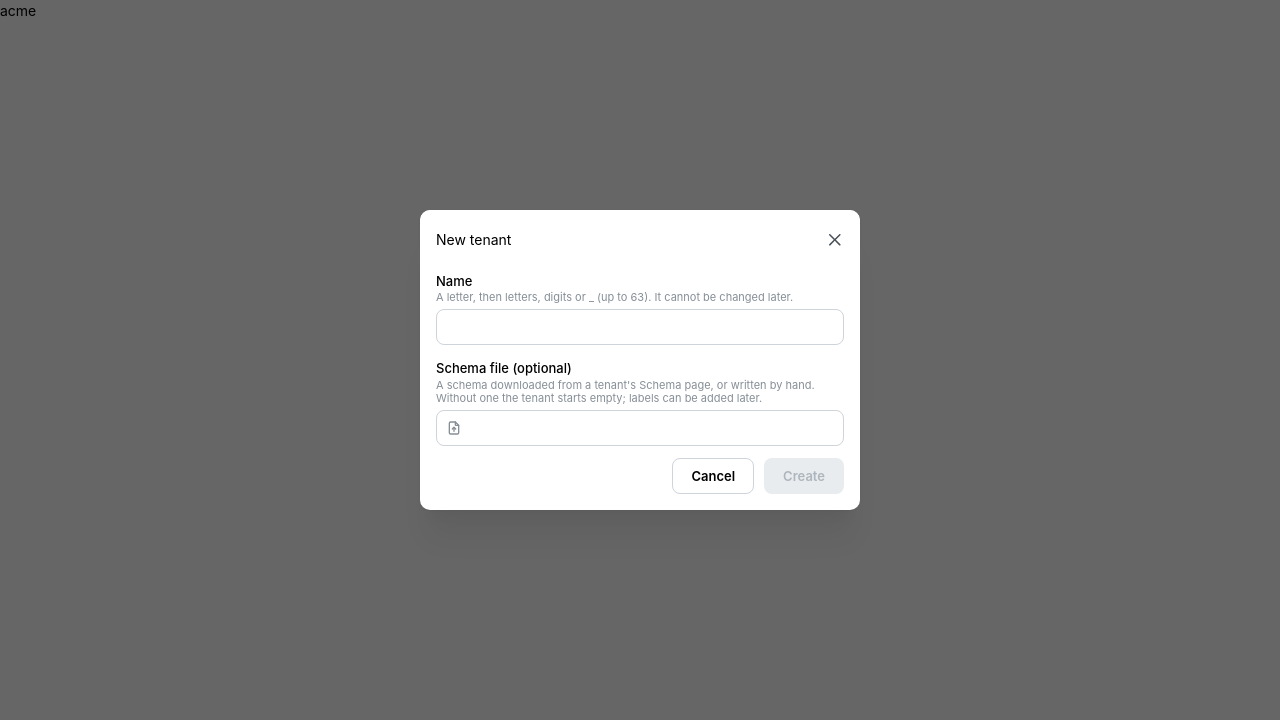
Test: a new tenant › checks the name against what the user may create, creates it and opens it
In the field labelled "Name": (640, 327) [436,309,844,345], type "other_x"
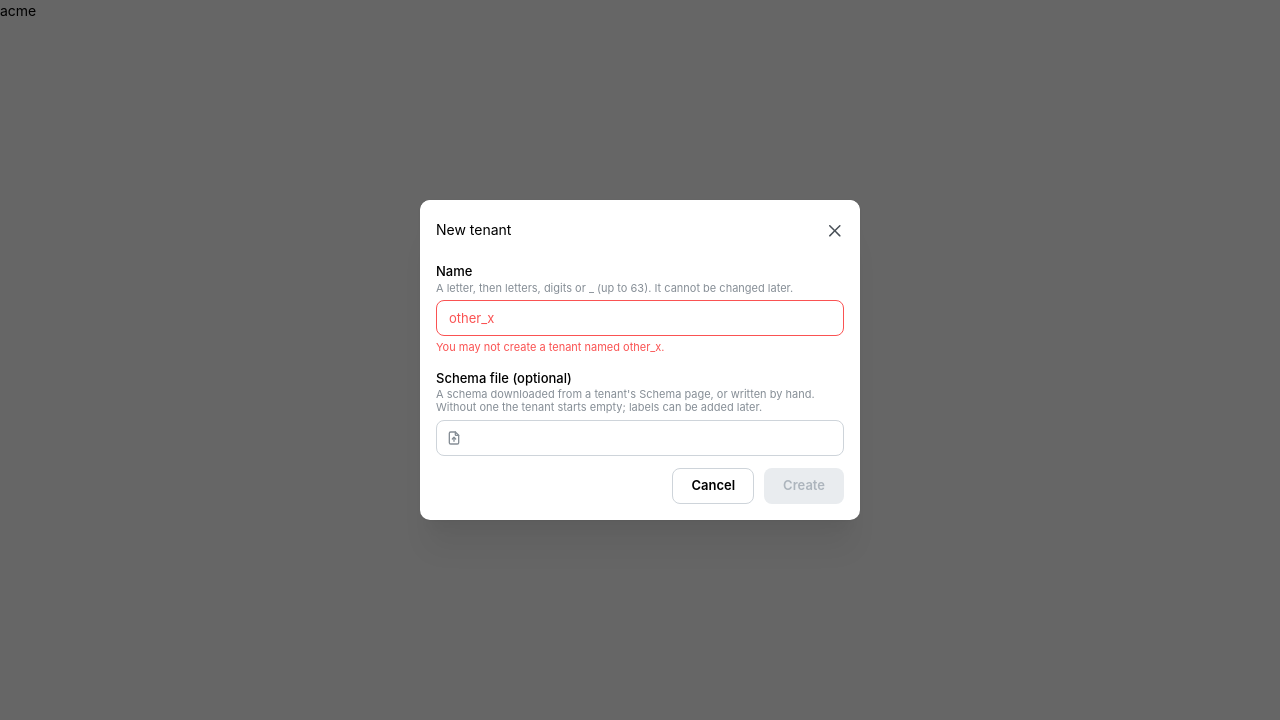
Expected: the button "Create" is disabled, [764,468,844,504]
Result: the text "You may not create a tenant named other_x." is shown at [436,340,664,354]
Replace the text in the field labelled "Name" with "team_new": (640, 318) [436,300,844,336]
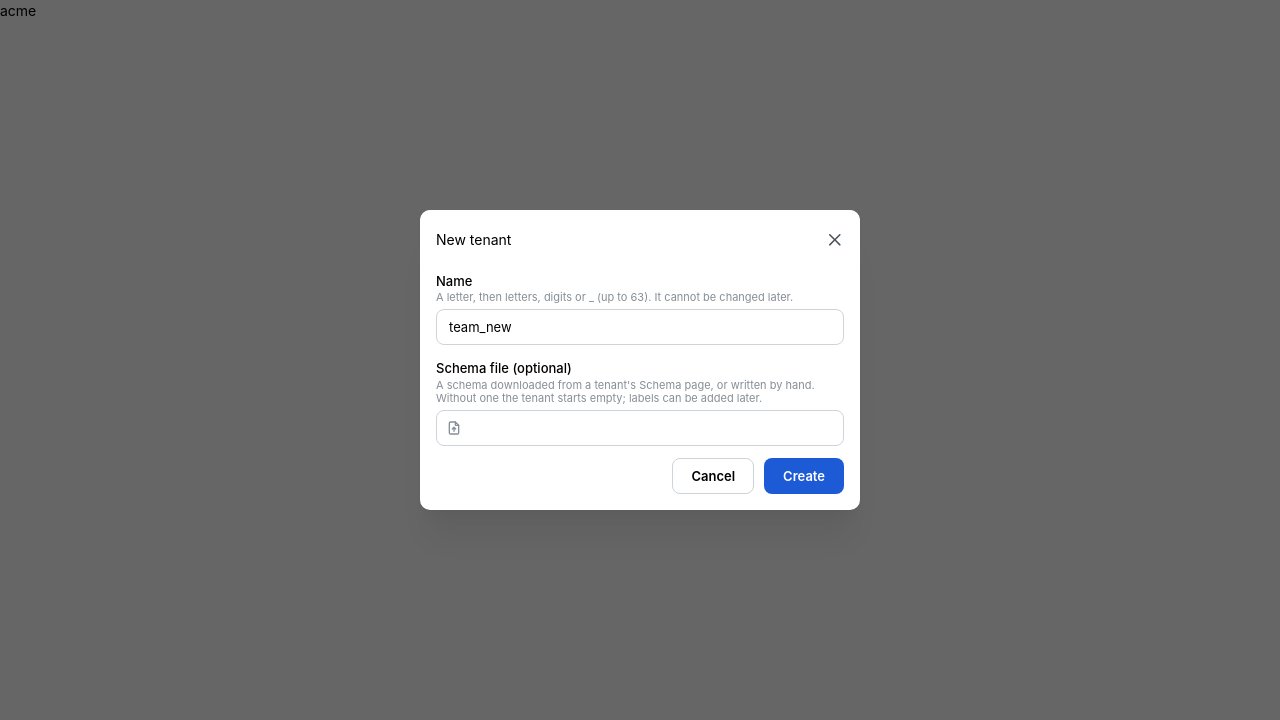
Click the button "Create": (804, 476) [764,458,844,494]
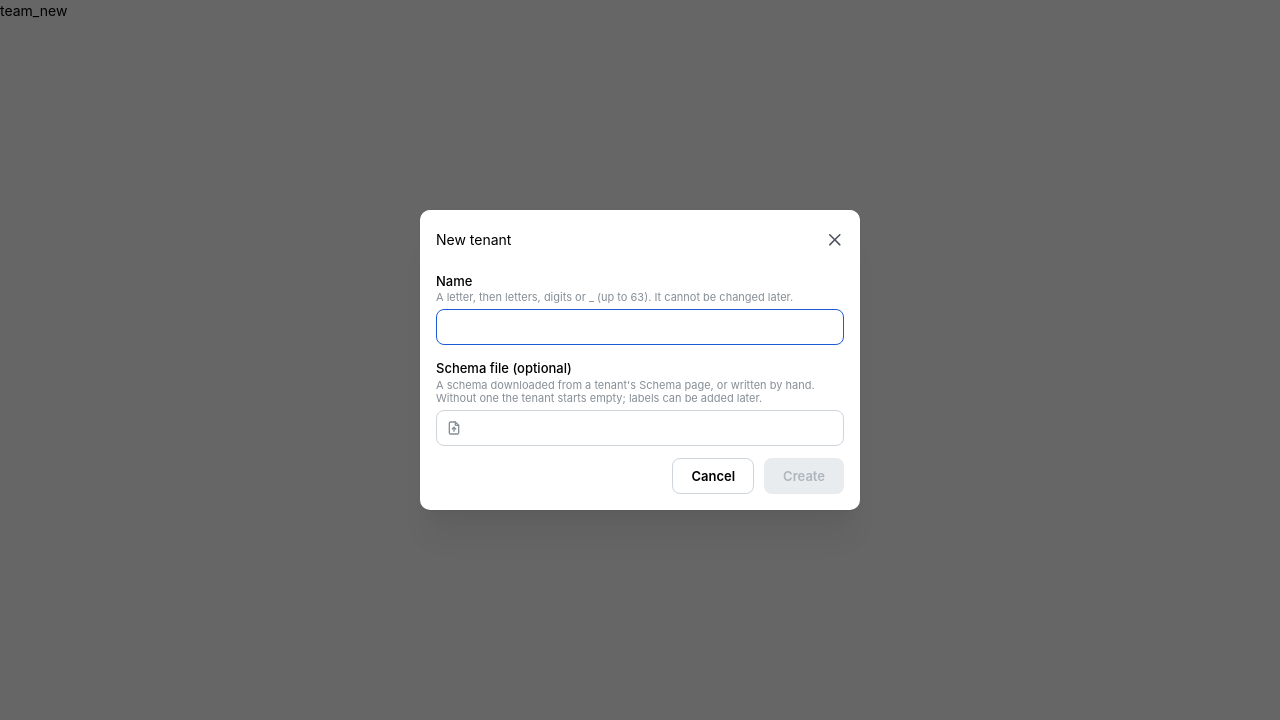
Result: the text named "selected" reads "team_new" at [0,2,67,19]
